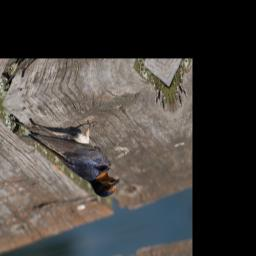Swallow: (10, 92, 123, 220)
